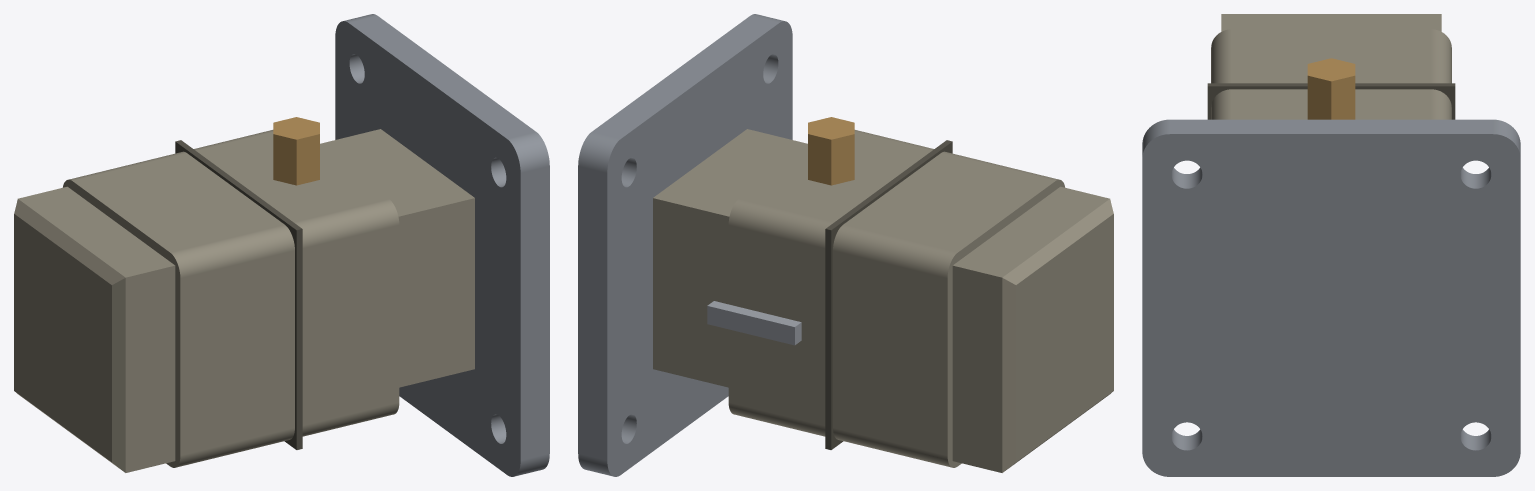
Rendered from acc.carburetor.mk1.glb.
3 renders of one model, left to right at view 1: azimuth 30°, elevation 25°; view 2: azimuth 150°, elevation 25°; view 3: azimuth 270°, elevation 25°, orthographic. The views are drawn at different scales.
Parts seen in each view (by area): view 1: body, flange, floatBowlSeam, fuelInlet; view 2: body, flange, floatBowlSeam, fuelInlet, throttleLever; view 3: flange, body, fuelInlet, floatBowlSeam.
Boxes of the visible parts, <box> form: body: <box>14,129,474,472</box>; flange: <box>335,14,549,476</box>; floatBowlSeam: <box>175,140,302,449</box>; fuelInlet: <box>273,117,319,185</box>; body: <box>653,129,1113,472</box>; flange: <box>578,14,792,476</box>; floatBowlSeam: <box>825,140,952,449</box>; fuelInlet: <box>808,117,854,185</box>; throttleLever: <box>707,301,801,345</box>; flange: <box>1142,119,1520,476</box>; body: <box>1211,14,1451,119</box>; fuelInlet: <box>1307,58,1355,119</box>; floatBowlSeam: <box>1207,83,1455,119</box>.
Bounding box in the file's own units: 0.135 × 0.11 × 0.11.
